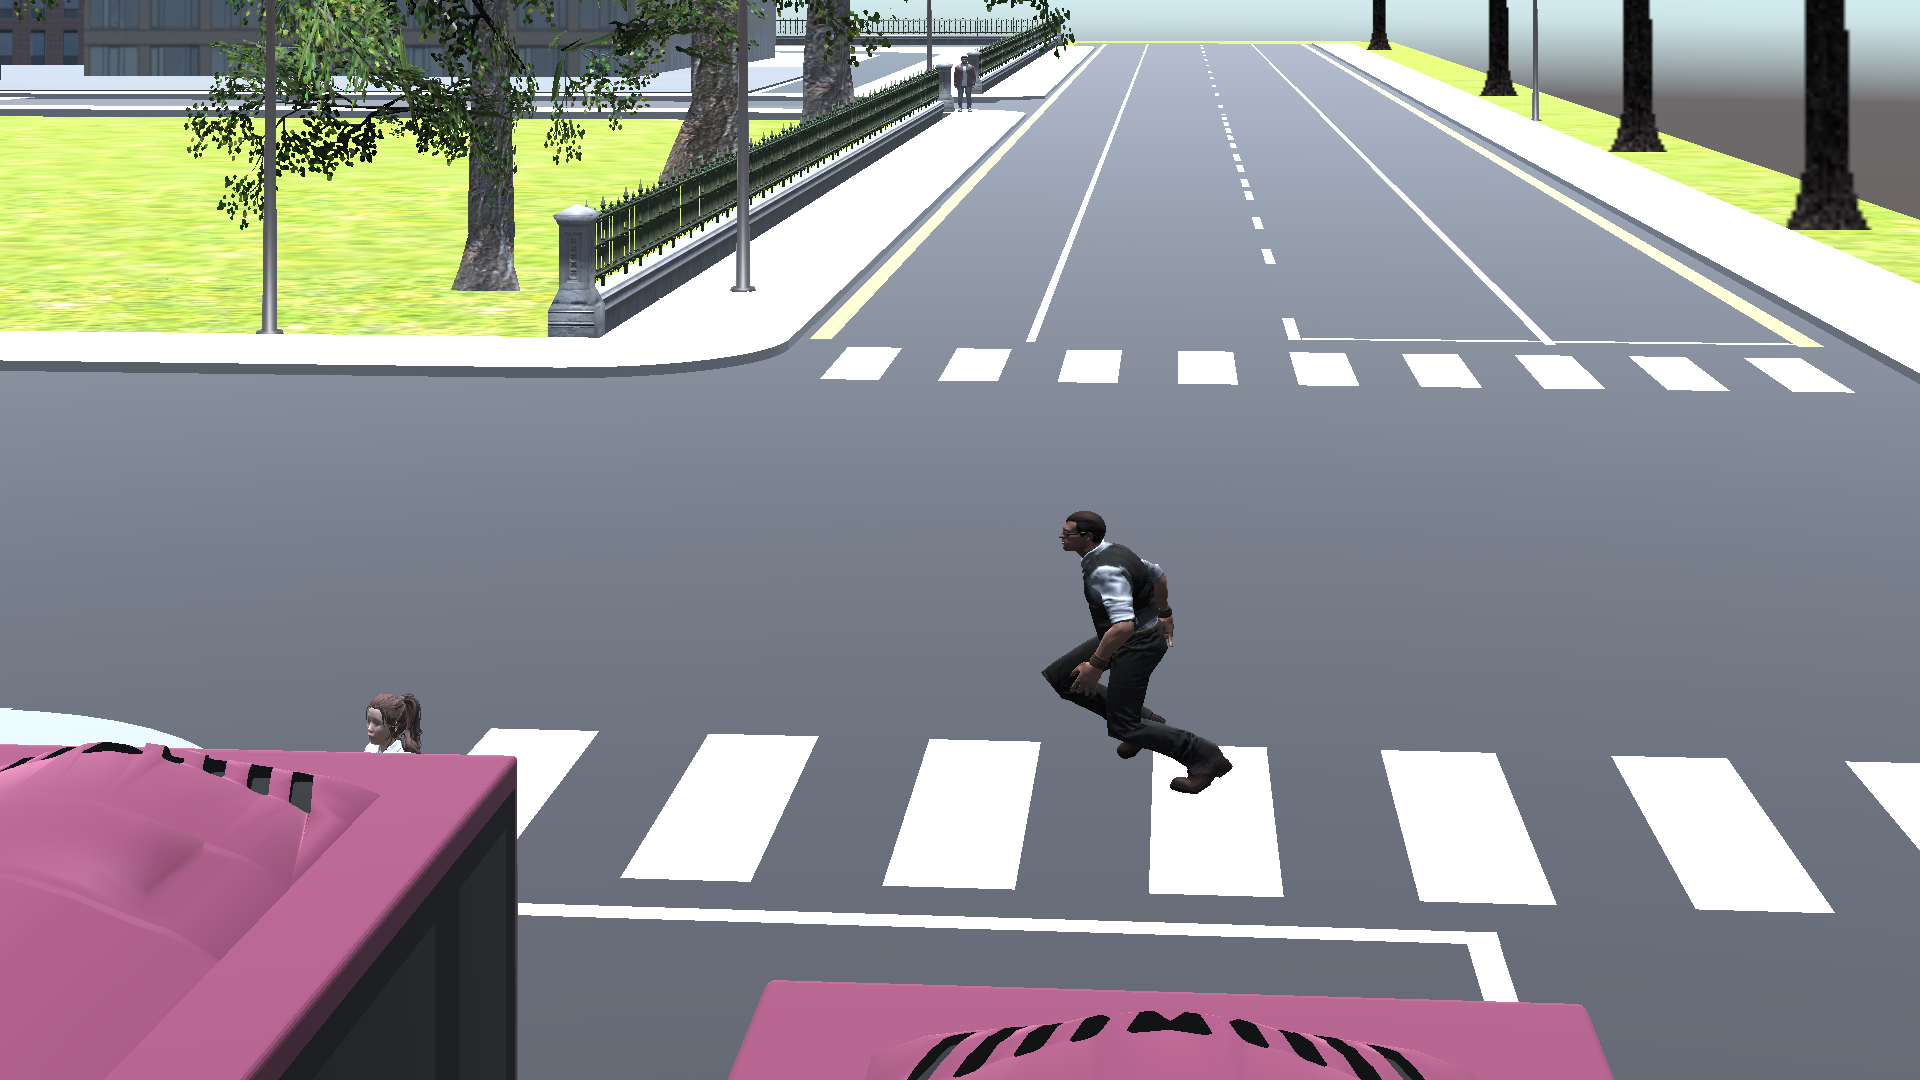pedestrian: (1040, 494, 1248, 803), (350, 689, 435, 753)
